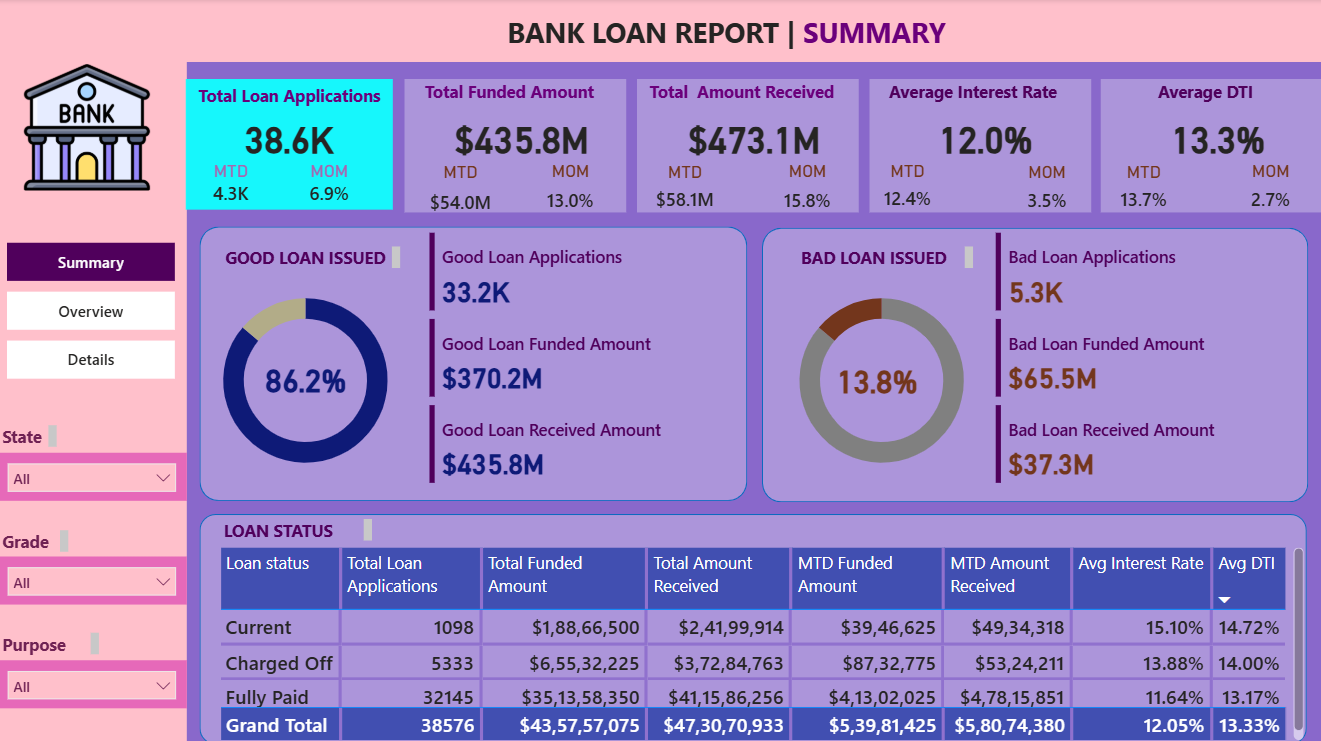

The dashboard page shown, as its layout file describes it:
{"tool":"powerbi","page":{"name":"Summary","canvas":[1280,720],"ordinal":0},"visuals":[{"type":"shape","box":[0,0,1279.8,60.9],"z":0},{"type":"shape","box":[392.9,76.5,214,129],"z":0,"group":"g2"},{"type":"shape","box":[617.2,77.2,214,129],"z":0,"group":"g3"},{"type":"shape","box":[841.6,77.2,214,129],"z":0,"group":"g4"},{"type":"shape","box":[1065.8,77.2,214,129],"z":0,"group":"g5"},{"type":"shape","box":[182.6,77.4,199.8,126.1],"z":0,"group":"g1"},{"type":"card","fields":{"Values":["Loan_report.Total Funded Amount"]},"box":[405.9,109.1,199.8,46.8],"z":1000,"group":"g2"},{"type":"card","fields":{"Values":["Loan_report.Total Amount Received"]},"box":[630.2,109.8,199.8,46.8],"z":1000,"group":"g3"},{"type":"card","fields":{"Values":["Loan_report.Avg Interest Rate"]},"box":[854.6,109.8,199.8,46.8],"z":1000,"group":"g4"},{"type":"card","fields":{"Values":["Loan_report.Avg DTI"]},"box":[1078.8,109.8,199.8,46.8],"z":1000,"group":"g5"},{"type":"card","fields":{"Values":["Loan_report.Total Loan Applications"]},"box":[182.6,111.3,199.8,44.7],"z":1000,"group":"g1"},{"type":"shape","box":[195.6,219.7,528.7,265],"z":1000},{"type":"shape","box":[0,54.3,183.4,666],"z":2000},{"type":"textbox","box":[393.5,73,199.8,35.4],"z":2000,"group":"g2"},{"type":"textbox","box":[617.8,73.7,199.8,35.4],"z":2000,"group":"g3"},{"type":"textbox","box":[842.2,73.7,199.8,35.4],"z":2000,"group":"g4"},{"type":"textbox","box":[1066.4,73.7,199.8,35.4],"z":2000,"group":"g5"},{"type":"textbox","box":[182.6,77.4,199.8,33.9],"z":2000,"group":"g1"},{"type":"card","title":"MTD","fields":{"Values":["Loan_report.MTD Avg Interest Rate"]},"box":[840.8,155.9,75.9,58.4],"z":3000,"group":"g4"},{"type":"card","title":"MTD","fields":{"Values":["Loan_report.MTD Loan Applications"]},"box":[201,156,51,46.1],"z":3000,"group":"g1"},{"type":"card","title":"MTD","fields":{"Values":["Loan_report.MTD Funded Amount"]},"box":[406.2,156.2,81.8,62.8],"z":3000,"group":"g2"},{"type":"card","title":"MTD","fields":{"Values":["Loan_report.MTD Amount Received"]},"box":[625.6,157.4,75.9,58.4],"z":3000,"group":"g3"},{"type":"card","title":"MTD","fields":{"Values":["Loan_report.MTD Avg DTI"]},"box":[1069,157.4,75.9,58.4],"z":3000,"group":"g5"},{"type":"textbox","box":[209.8,233.9,184.3,31.2],"z":3000},{"type":"card","title":"MOM","fields":{"Values":["Loan_report.MOM Funded Amount"]},"box":[520.2,154.8,67.2,61.3],"z":4000,"group":"g2"},{"type":"card","title":"MOM","fields":{"Values":["Loan_report.MOM Amount Received"]},"box":[743.9,155.9,75.9,62.8],"z":4000,"group":"g3"},{"type":"card","title":"MOM","fields":{"Values":["Loan_report.MOM Avg DTI"]},"box":[1194.6,155.9,70.1,59.9],"z":4000,"group":"g5"},{"type":"card","title":"MOM","fields":{"Values":["Loan_report.MOM Loan Applications"]},"box":[283.6,156,74.5,48.9],"z":4000,"group":"g1"},{"type":"card","title":"MOM","fields":{"Values":["Loan_report.MOM Avg Interest Rate"]},"box":[978.4,157.4,70.1,59.9],"z":4000,"group":"g4"},{"type":"card","fields":{"Values":["Loan_report.Good Loan %"]},"box":[245.2,344.4,106.3,46.8],"z":4000},{"type":"textbox","box":[487.6,8.5,483.3,45.4],"z":5000},{"type":"group","id":"g1","title":"Group 1","box":[182.6,77.4,200.1,128.5],"z":6000},{"type":"group","id":"g2","title":"Group 1","box":[392.9,73,214,146],"z":7000},{"type":"group","id":"g3","title":"Group 1","box":[617.2,73.7,214,145],"z":8000},{"type":"group","id":"g4","title":"Group 1","box":[840.8,73.7,214.8,143.6],"z":9000},{"type":"group","id":"g5","title":"Group 1","box":[1065.8,73.7,214,142.1],"z":10000},{"type":"shape","box":[738.4,221.1,527.2,265],"z":11000},{"type":"donutChart","fields":{"Category":["Loan_report.Good v/s Bad loan"],"Y":["Loan_report.Total Loan Applications"]},"box":[157.3,263.6,282,208.3],"z":12000},{"type":"cardVisual","fields":{"Data":["Loan_report.Good Loan Applications","Loan_report.Good Loan Funded Amount","Loan_report.Good Loan Received Amount"]},"box":[412.4,221.1,304.7,252.3],"z":13000},{"type":"donutChart","fields":{"Category":["Loan_report.Good v/s Bad loan"],"Y":["Loan_report.Total Loan Applications"]},"box":[712.9,263.6,282,208.3],"z":14000},{"type":"textbox","box":[754,233.9,192.8,31.2],"z":15000},{"type":"card","fields":{"Values":["Loan_report.Bad Loan %"]},"box":[796.5,348.7,106.3,38.3],"z":16000},{"type":"cardVisual","fields":{"Data":["Loan_report.Bad Loan Applications","Loan_report.Bad Loan Funded Amount","Loan_report.Bad Loan Received Amount"]},"box":[959.5,221.1,304.7,253.7],"z":17000},{"type":"shape","box":[195.6,497.5,1068.7,222.5],"z":18000},{"type":"tableEx","fields":{"Values":["Loan_report.loan_status","Loan_report.Total Loan Applications","Loan_report.Total Funded Amount","Loan_report.Total Amount Received","Loan_report.MTD Funded Amount","Loan_report.MTD Amount Received","Loan_report.Avg Interest Rate","Loan_report.Avg DTI"]},"box":[209.8,524.4,1055.9,195.6],"z":19000},{"type":"textbox","box":[209.8,497.5,157.3,31.2],"z":20000},{"type":"slicer","fields":{"Values":["Loan_report.address_state"]},"box":[0,438,182.8,46.8],"z":21000},{"type":"textbox","box":[0,406.8,62.4,31.2],"z":22000},{"type":"slicer","fields":{"Values":["Loan_report.purpose"]},"box":[0,637.8,182.8,46.8],"z":23000},{"type":"textbox","box":[0,507.4,73.7,31.2],"z":24000},{"type":"slicer","fields":{"Values":["Loan_report.grade"]},"box":[0,538.6,182.8,46.8],"z":25000},{"type":"textbox","box":[0,606.6,103.5,31.2],"z":26000},{"type":"image","box":[0,58.1,172.9,131.8],"z":27000},{"type":"pageNavigator","box":[9.9,235.3,163,133.2],"z":28000}]}

Visuals, with their boxes in screenshot pixels (x1, y1, x2, y2), scaled from the page's 1280x720 canvas onto the 1321x741 screenshot:
shape: <bbox>0, 0, 1320, 63</bbox>
shape: <bbox>405, 79, 626, 211</bbox>
shape: <bbox>637, 79, 858, 212</bbox>
shape: <bbox>869, 79, 1089, 212</bbox>
shape: <bbox>1100, 79, 1320, 212</bbox>
shape: <bbox>188, 80, 395, 209</bbox>
card - Loan_report.Total Funded Amount: <bbox>419, 112, 625, 160</bbox>
card - Loan_report.Total Amount Received: <bbox>650, 113, 857, 161</bbox>
card - Loan_report.Avg Interest Rate: <bbox>882, 113, 1088, 161</bbox>
card - Loan_report.Avg DTI: <bbox>1113, 113, 1320, 161</bbox>
card - Loan_report.Total Loan Applications: <bbox>188, 115, 395, 161</bbox>
shape: <bbox>202, 226, 748, 499</bbox>
shape: <bbox>0, 56, 189, 740</bbox>
textbox: <bbox>406, 75, 612, 112</bbox>
textbox: <bbox>638, 76, 844, 112</bbox>
textbox: <bbox>869, 76, 1075, 112</bbox>
textbox: <bbox>1101, 76, 1307, 112</bbox>
textbox: <bbox>188, 80, 395, 115</bbox>
"MTD" card: <bbox>868, 160, 946, 221</bbox>
"MTD" card: <bbox>207, 161, 260, 208</bbox>
"MTD" card: <bbox>419, 161, 504, 225</bbox>
"MTD" card: <bbox>646, 162, 724, 222</bbox>
"MTD" card: <bbox>1103, 162, 1182, 222</bbox>
textbox: <bbox>217, 241, 407, 273</bbox>
"MOM" card: <bbox>537, 159, 606, 222</bbox>
"MOM" card: <bbox>768, 160, 846, 225</bbox>
"MOM" card: <bbox>1233, 160, 1305, 222</bbox>
"MOM" card: <bbox>293, 161, 370, 211</bbox>
"MOM" card: <bbox>1010, 162, 1082, 224</bbox>
card - Loan_report.Good Loan %: <bbox>253, 354, 363, 403</bbox>
textbox: <bbox>503, 9, 1002, 55</bbox>
"Group 1" group: <bbox>188, 80, 395, 212</bbox>
"Group 1" group: <bbox>405, 75, 626, 225</bbox>
"Group 1" group: <bbox>637, 76, 858, 225</bbox>
"Group 1" group: <bbox>868, 76, 1089, 224</bbox>
"Group 1" group: <bbox>1100, 76, 1320, 222</bbox>
shape: <bbox>762, 228, 1306, 500</bbox>
donutChart - Loan_report.Good v/s Bad loan x Loan_report.Total Loan Applications: <bbox>162, 271, 453, 486</bbox>
cardVisual - Loan_report.Good Loan Applications x Loan_report.Good Loan Funded Amount: <bbox>426, 228, 740, 487</bbox>
donutChart - Loan_report.Good v/s Bad loan x Loan_report.Total Loan Applications: <bbox>736, 271, 1027, 486</bbox>
textbox: <bbox>778, 241, 977, 273</bbox>
card - Loan_report.Bad Loan %: <bbox>822, 359, 932, 398</bbox>
cardVisual - Loan_report.Bad Loan Applications x Loan_report.Bad Loan Funded Amount: <bbox>990, 228, 1305, 489</bbox>
shape: <bbox>202, 512, 1305, 740</bbox>
tableEx - Loan_report.loan_status x Loan_report.Total Loan Applications: <bbox>217, 540, 1306, 740</bbox>
textbox: <bbox>217, 512, 379, 544</bbox>
slicer - Loan_report.address_state: <bbox>0, 451, 189, 499</bbox>
textbox: <bbox>0, 419, 64, 451</bbox>
slicer - Loan_report.purpose: <bbox>0, 656, 189, 705</bbox>
textbox: <bbox>0, 522, 76, 554</bbox>
slicer - Loan_report.grade: <bbox>0, 554, 189, 602</bbox>
textbox: <bbox>0, 624, 107, 656</bbox>
image: <bbox>0, 60, 178, 195</bbox>
pageNavigator: <bbox>10, 242, 178, 379</bbox>
